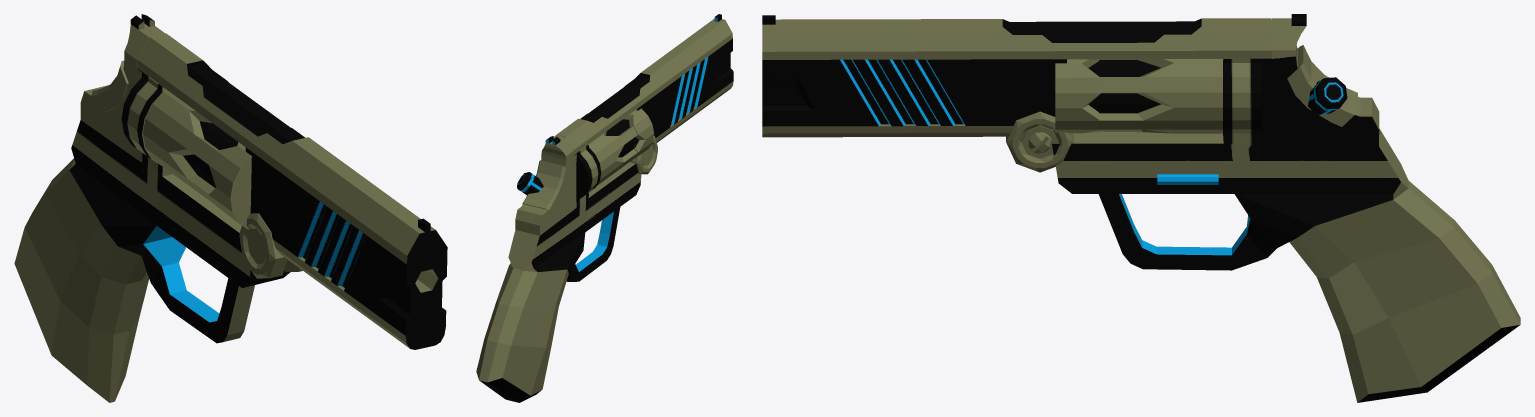
The model's file is pistol.fbx.
3 views of the same model, side by side, from view 1: azimuth 30°, elevation 25°; view 2: azimuth 150°, elevation 25°; view 3: azimuth 270°, elevation 25° (orthographic). The views are drawn at different scales.
Visible parts, largest first — view 1: Cube.009; view 2: Cube.009; view 3: Cube.009.
Part boxes in pixels (box(x1,y1,x2,y2)): Cube.009: box(14, 14, 447, 402); Cube.009: box(476, 14, 733, 402); Cube.009: box(762, 14, 1520, 402).
Bounding box in the file's own units: 0.0417 × 0.1935 × 0.3442.
